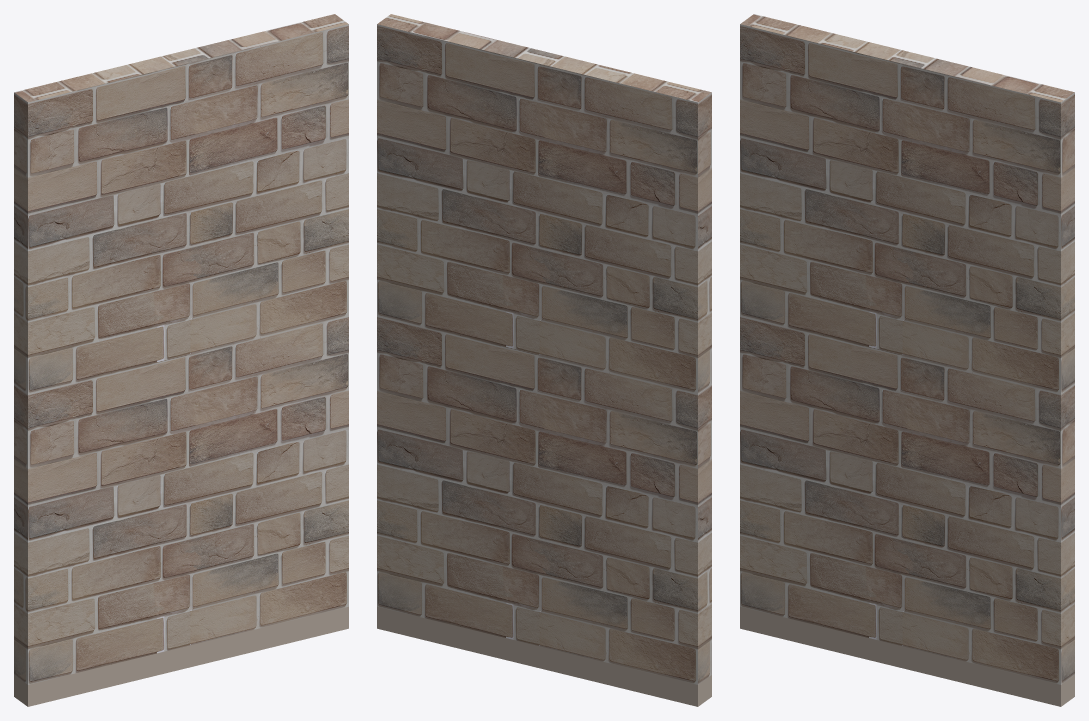
The model's file is ARC0210056.fbx.
The picture shows the model from 3 angles, left to right: view 1: azimuth 30°, elevation 25°; view 2: azimuth 150°, elevation 25°; view 3: azimuth 330°, elevation 25°; orthographic projection.
Visible parts, largest first — view 1: smARC0210056; view 2: smARC0210056; view 3: smARC0210056.
Part boxes in pixels (x1,y1,x2,y2): smARC0210056: (14, 14, 348, 706); smARC0210056: (377, 14, 711, 706); smARC0210056: (740, 14, 1074, 706).
Bounding box in the file's own units: 182 × 328 × 13.67.
1 material, 1 textured.
